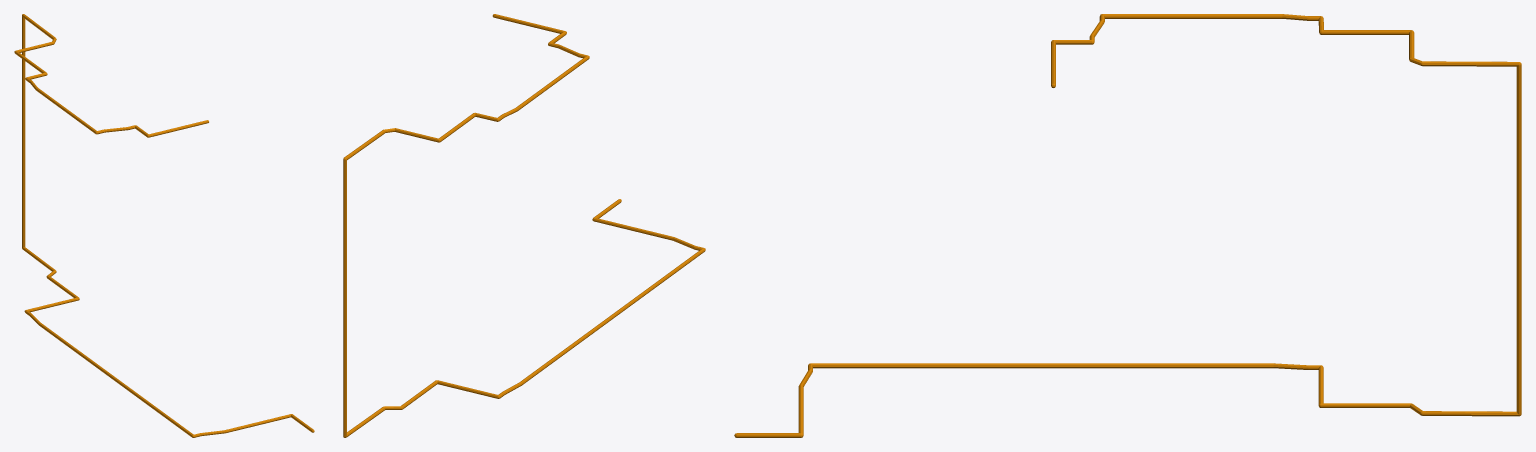
3 views of the same model, side by side, from view 1: azimuth 30°, elevation 25°; view 2: azimuth 150°, elevation 25°; view 3: azimuth 270°, elevation 25° (orthographic). The views are drawn at different scales.
Size of the model in its own units: 662 by 1520 by 3061.
